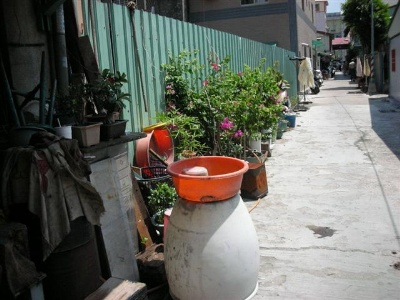bowl: (164, 196, 259, 300), (167, 155, 250, 202), (136, 127, 174, 176)
